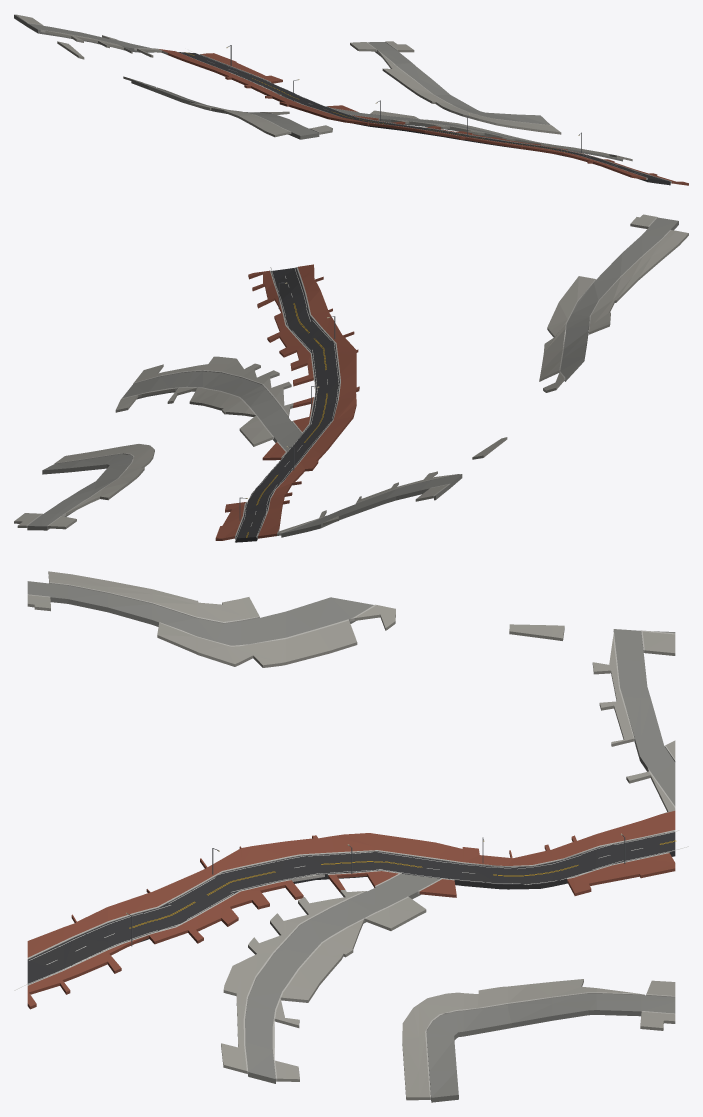
The picture shows the model from 3 angles, top to bottom: view 1: azimuth 30°, elevation 25°; view 2: azimuth 150°, elevation 25°; view 3: azimuth 270°, elevation 25°; orthographic projection. The views are drawn at different scales.
Bounding box in the file's own units: 147 × 66.22 × 152.
